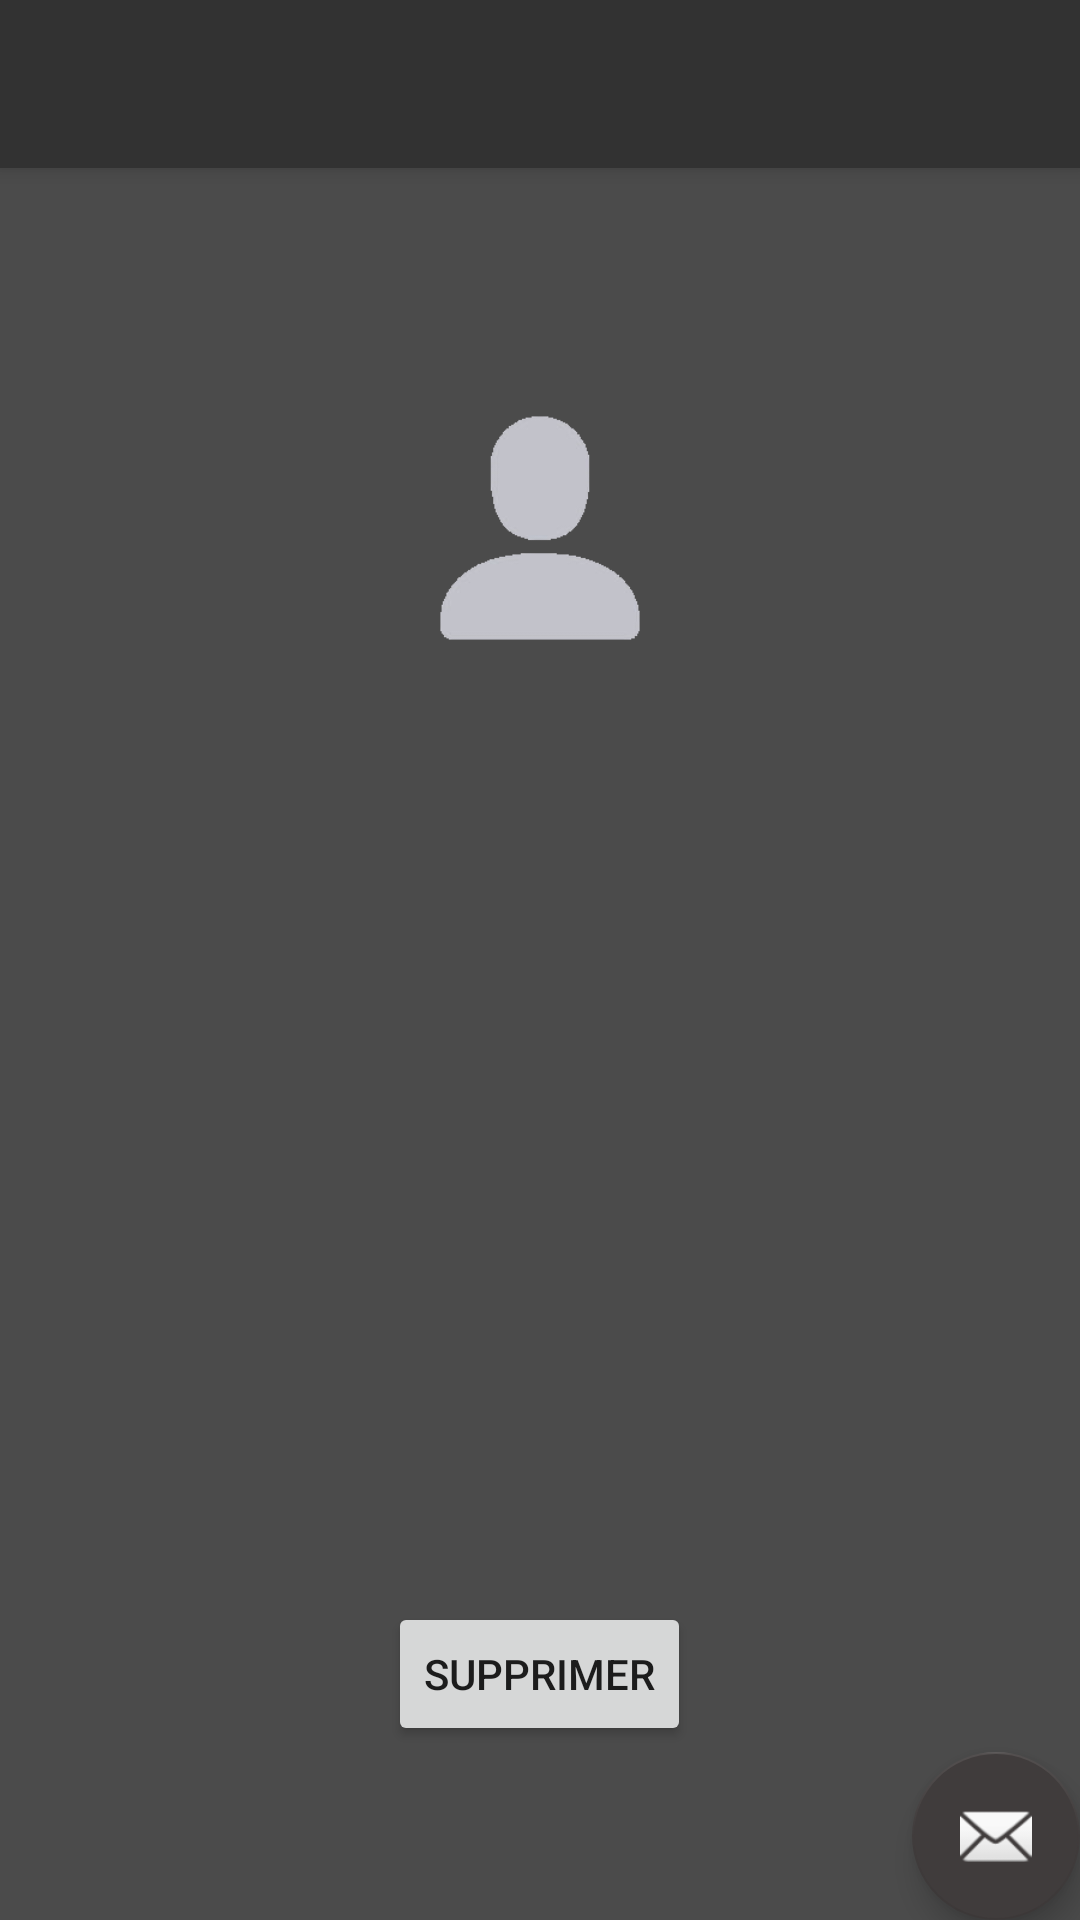

Screen size 1080 × 1920. Icon name, then its box in pixels as (x1, y1, x2, y2):
email: (960, 1811, 1032, 1862)
profile empty: (440, 416, 640, 640)
